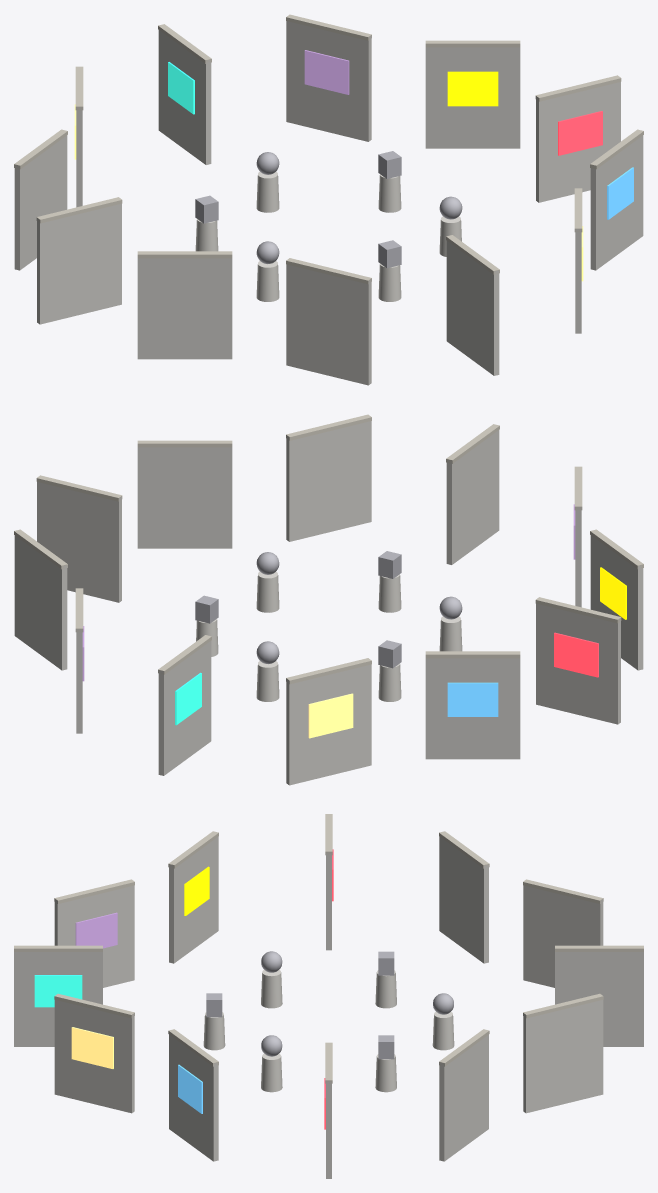
The picture shows the model from 3 angles, top to bottom: view 1: azimuth 30°, elevation 25°; view 2: azimuth 150°, elevation 25°; view 3: azimuth 270°, elevation 25°; orthographic projection. The views are drawn at different scales.
Visible parts, largest first — view 1: wall_5, wall_11, wall_10, wall_4, wall_6, wall_0, wall_9, wall_1, wall_3, wall_7, pedestal_1, pedestal_5 (+6 smaller); view 2: wall_1, wall_7, wall_2, wall_8, wall_6, wall_0, wall_3, wall_9, wall_11, wall_5, pedestal_1, pedestal_3 (+6 smaller); view 3: wall_2, wall_10, wall_3, wall_9, wall_4, wall_8, wall_1, wall_5, wall_7, wall_11, pedestal_2, pedestal_4 (+6 smaller).
Part boxes in pixels (bbox=[...]): wall_5: bbox=[137, 251, 232, 359]; wall_11: bbox=[425, 40, 520, 148]; wall_10: bbox=[286, 14, 371, 141]; wall_4: bbox=[286, 258, 371, 385]; wall_6: bbox=[36, 197, 122, 324]; wall_0: bbox=[535, 75, 621, 202]; wall_9: bbox=[158, 24, 211, 164]; wall_1: bbox=[590, 129, 643, 270]; wall_3: bbox=[446, 235, 499, 375]; wall_7: bbox=[14, 129, 67, 270]; pedestal_1: bbox=[378, 240, 401, 301]; pedestal_5: bbox=[378, 151, 401, 212]; wall_1: bbox=[137, 440, 232, 548]; wall_7: bbox=[425, 651, 520, 759]; wall_2: bbox=[286, 414, 371, 541]; wall_8: bbox=[286, 658, 371, 785]; wall_6: bbox=[535, 597, 621, 724]; wall_0: bbox=[36, 475, 122, 602]; wall_3: bbox=[446, 424, 499, 564]; wall_9: bbox=[158, 635, 211, 775]; wall_11: bbox=[14, 529, 67, 670]; wall_5: bbox=[590, 529, 643, 670]; pedestal_1: bbox=[378, 551, 401, 612]; pedestal_3: bbox=[378, 640, 401, 701]; wall_2: bbox=[54, 993, 134, 1113]; wall_10: bbox=[523, 993, 603, 1113]; wall_3: bbox=[14, 945, 102, 1046]; wall_9: bbox=[555, 945, 643, 1046]; wall_4: bbox=[54, 879, 134, 987]; wall_8: bbox=[523, 879, 603, 987]; wall_1: bbox=[168, 1029, 218, 1161]; wall_5: bbox=[168, 831, 218, 963]; wall_7: bbox=[439, 831, 489, 963]; wall_11: bbox=[439, 1029, 489, 1161]; pedestal_2: bbox=[261, 951, 282, 1008]; pedestal_4: bbox=[432, 993, 454, 1050].
Size of the model in its own units: 19.8 by 3.42 by 19.8.
